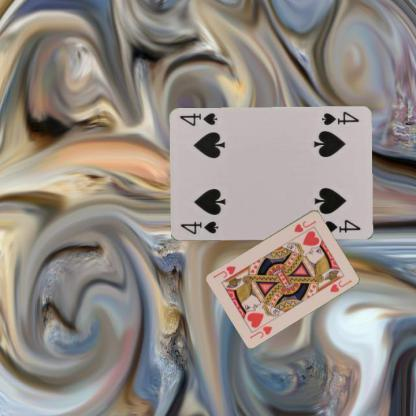4s: (318, 109, 360, 127), (177, 219, 219, 236)
Jh: (247, 323, 274, 340), (291, 218, 317, 234)
